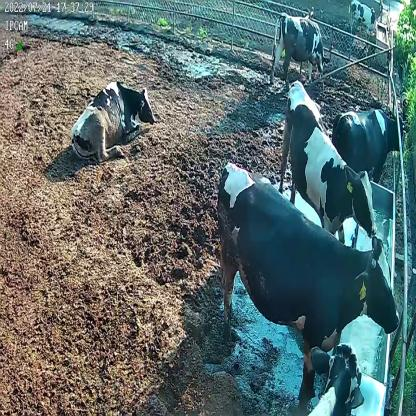cow: (216, 155, 401, 389), (280, 80, 378, 240), (70, 80, 156, 160), (332, 105, 405, 182), (270, 10, 331, 83), (346, 0, 376, 35)
